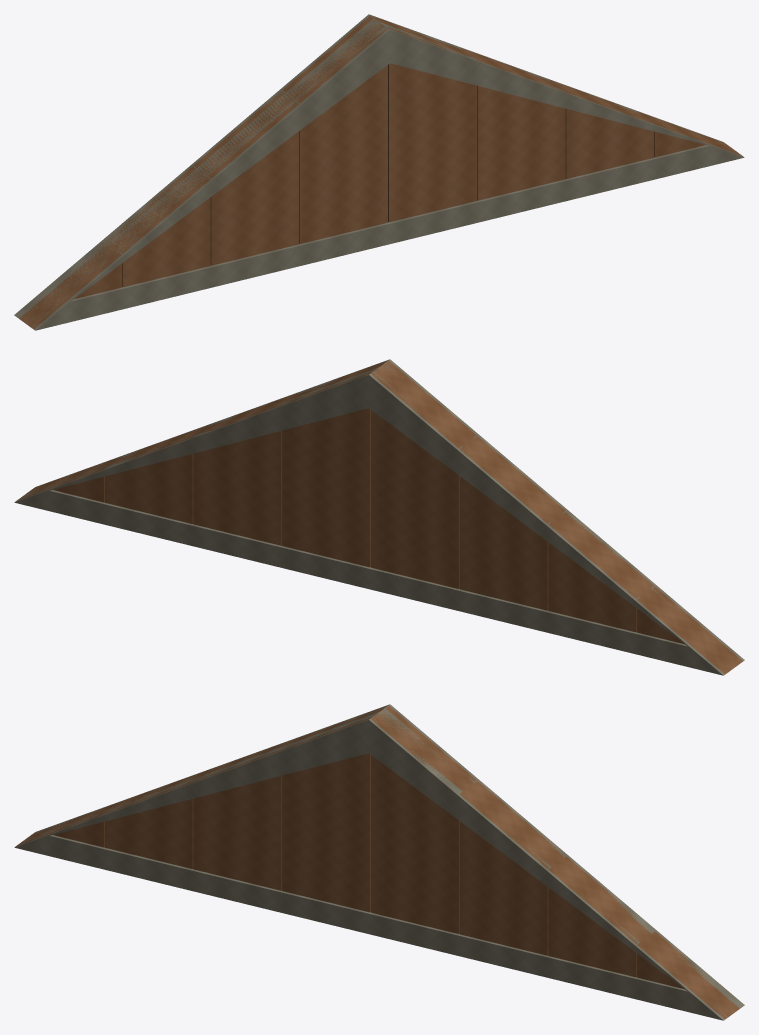
Rendered from MRP_Gable_Wood_2m.fbx.
The picture shows the model from 3 angles, top to bottom: view 1: azimuth 30°, elevation 25°; view 2: azimuth 150°, elevation 25°; view 3: azimuth 330°, elevation 25°; orthographic projection.
Visible parts, largest first — view 1: Body; view 2: Body; view 3: Body.
Boxes of the visible parts, x1,y1,x2,y2 form: Body: (14, 14, 744, 330); Body: (14, 359, 744, 675); Body: (14, 704, 744, 1020).
Bounding box in the file's own units: 2 × 0.5774 × 0.104.
